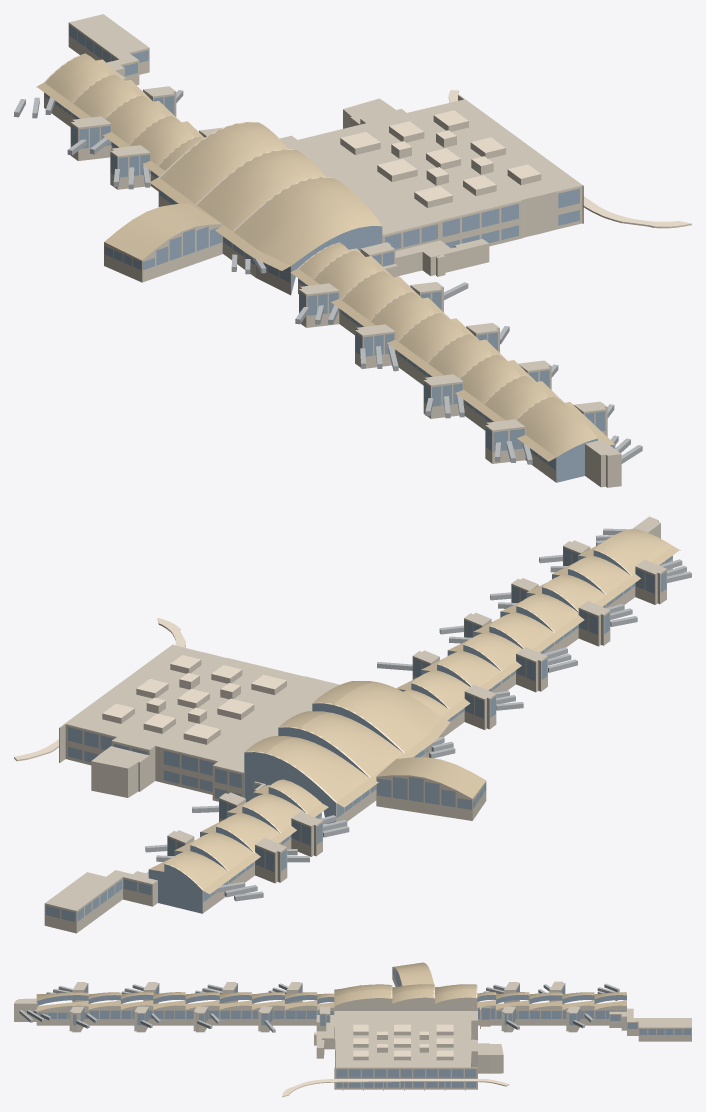
The model's file is la-lax-tom-bradley-terminal.glb.
3 views of the same model, one above another, from view 1: azimuth 30°, elevation 25°; view 2: azimuth 150°, elevation 25°; view 3: azimuth 270°, elevation 25° (orthographic). The views are drawn at different scales.
Parts seen in each view (by area): view 1: Tom Bradley International Terminal; view 2: Tom Bradley International Terminal; view 3: Tom Bradley International Terminal.
Part boxes in pixels (bbox=[...]): Tom Bradley International Terminal: bbox=[14, 14, 691, 487]; Tom Bradley International Terminal: bbox=[14, 516, 691, 933]; Tom Bradley International Terminal: bbox=[14, 962, 691, 1097].
Bounding box in the file's own units: 364 × 48.73 × 797.
